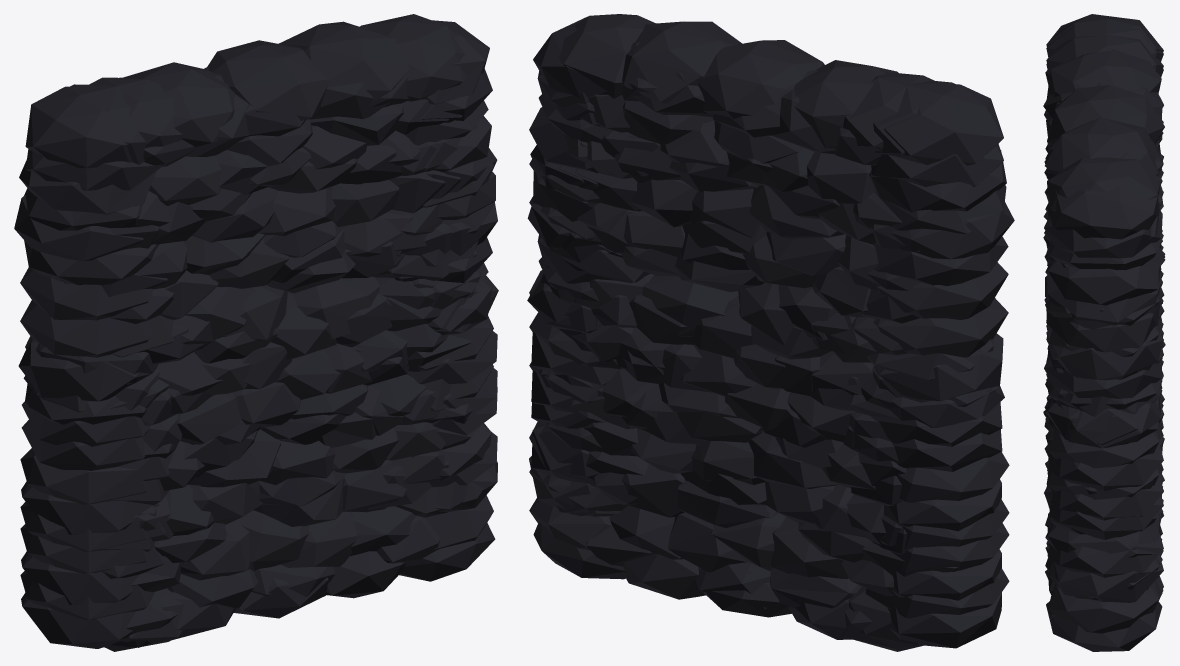
Rendered from backrock.obj.
3 renders of one model, left to right at view 1: azimuth 30°, elevation 25°; view 2: azimuth 150°, elevation 25°; view 3: azimuth 270°, elevation 25°, orthographic. The views are drawn at different scales.
Parts seen in each view (by area): view 1: 球.164; view 2: 球.164; view 3: 球.164.
Part boxes in pixels (<box>): 球.164: <box>14,14,498,651</box>; 球.164: <box>527,14,1014,651</box>; 球.164: <box>1043,14,1165,651</box>.
Bounding box in the file's own units: 11.37 × 12.88 × 2.97.
32 materials, 32 textured.
